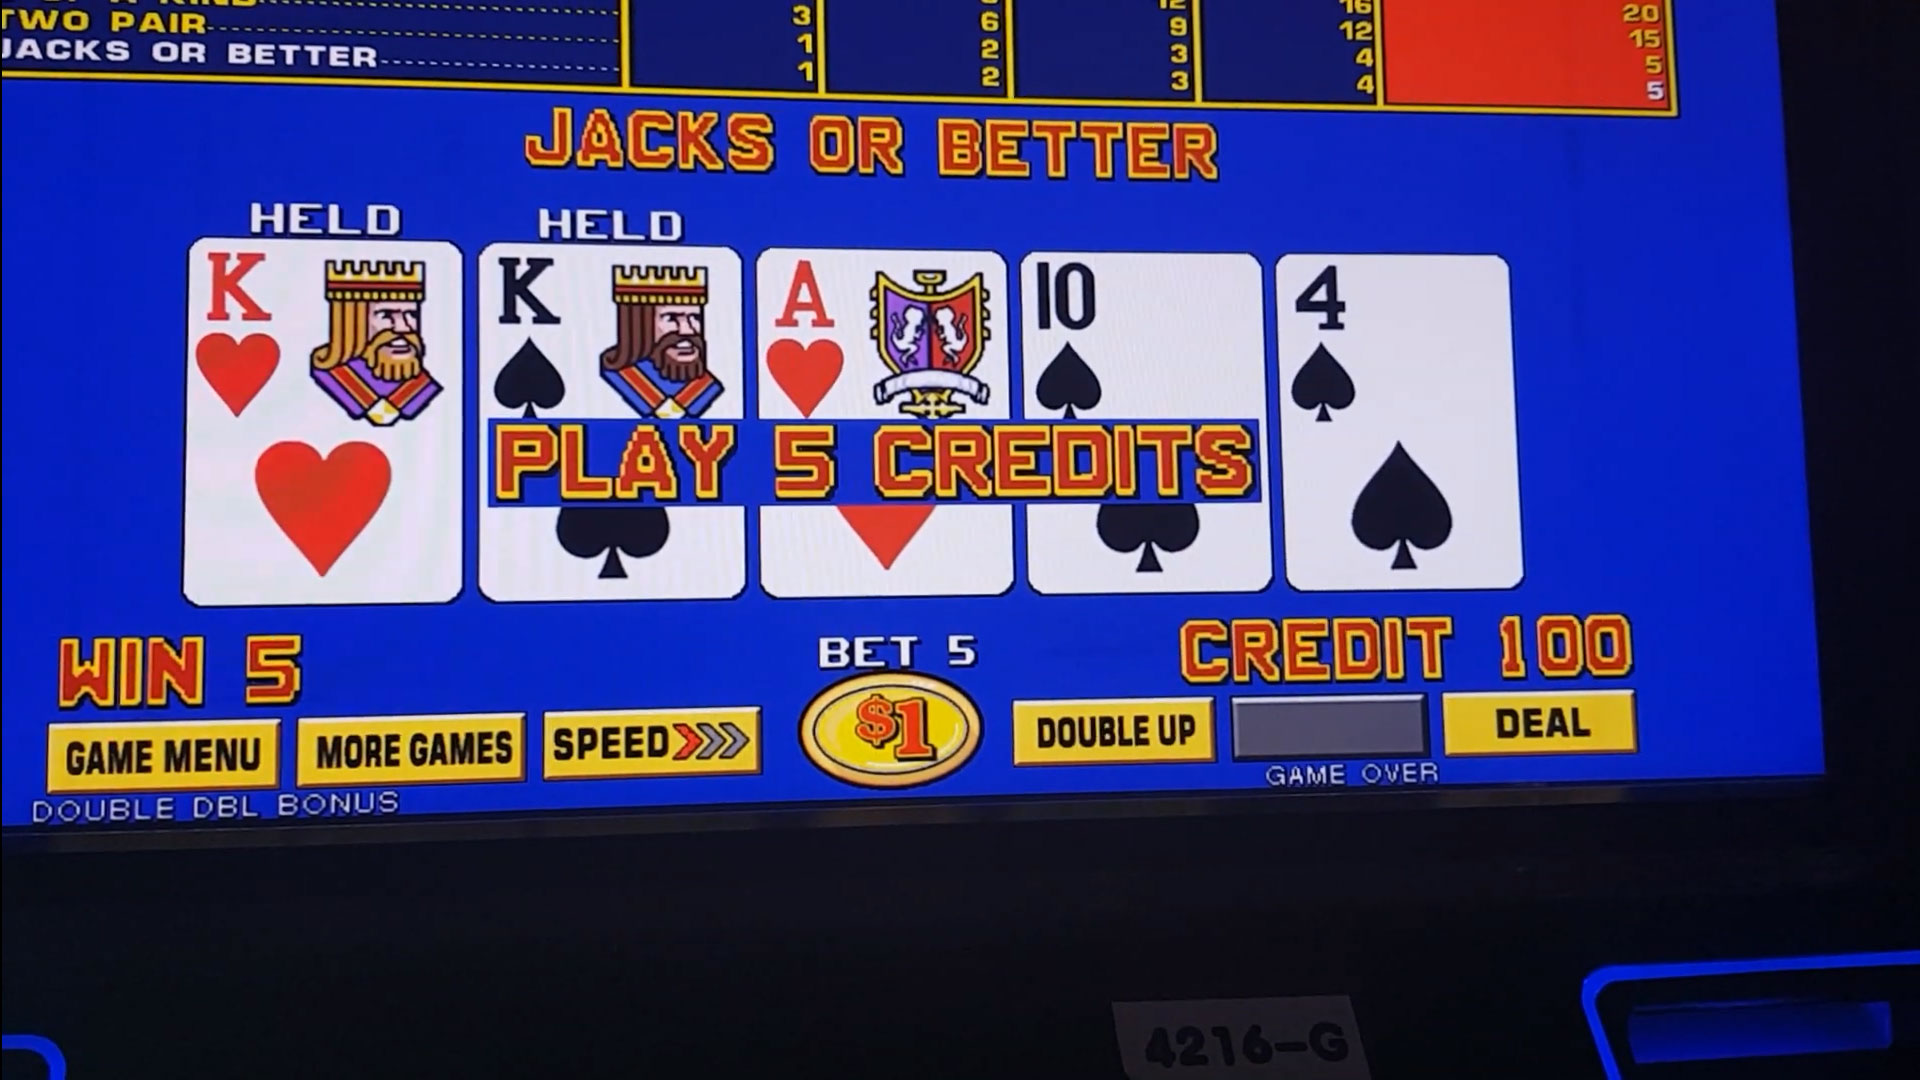HA: (760, 251, 1004, 411)
HK: (191, 240, 462, 430)
S4: (1287, 256, 1509, 427)
SK: (483, 248, 744, 415)
ST: (1026, 252, 1259, 413)
